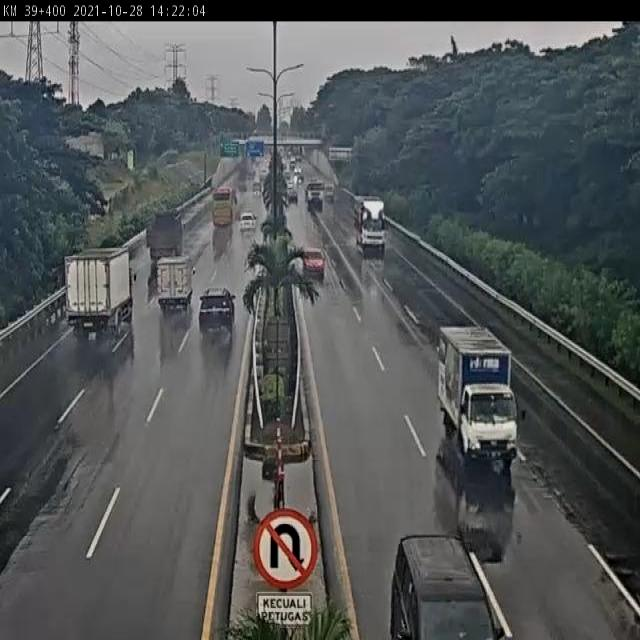Bus: (356, 197, 390, 255), (211, 184, 239, 232)
Car: (391, 528, 504, 640), (199, 286, 237, 335), (300, 247, 327, 278), (236, 211, 260, 236), (287, 191, 299, 203)
Truck: (438, 315, 530, 472), (63, 242, 138, 344), (155, 251, 196, 315), (144, 210, 187, 270), (306, 175, 324, 215), (323, 183, 336, 200)
